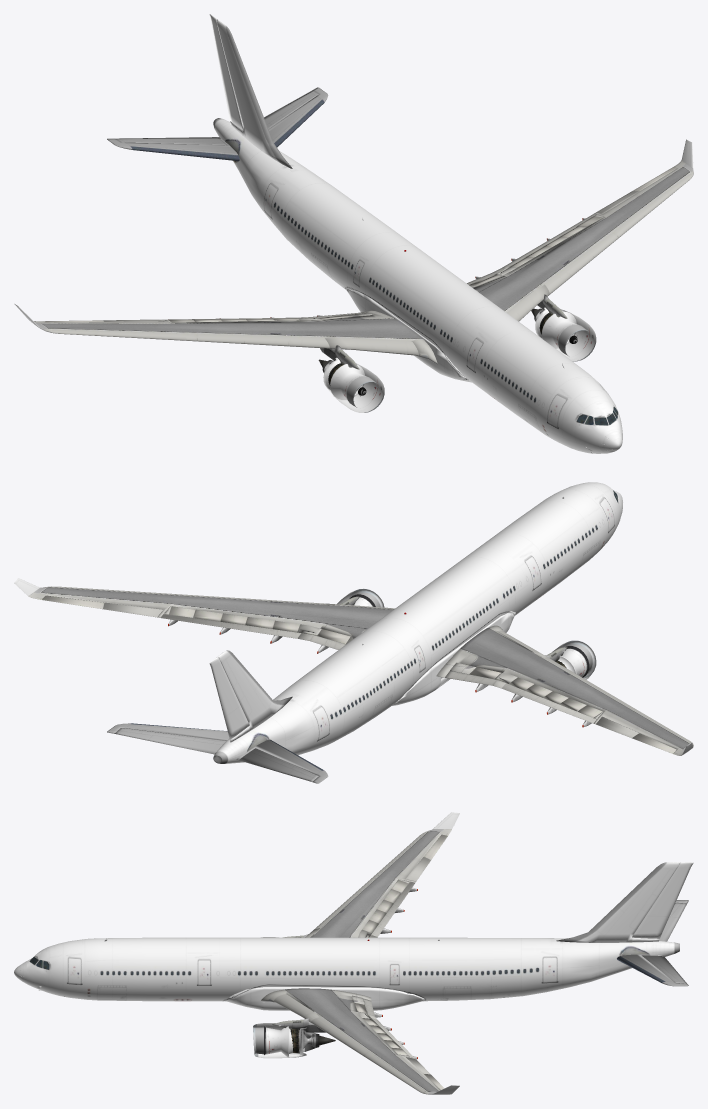
3 renders of one model, top to bottom at view 1: azimuth 30°, elevation 25°; view 2: azimuth 150°, elevation 25°; view 3: azimuth 270°, elevation 25°, orthographic. The views are drawn at different scales.
Parts seen in each view (by area): view 1: fuselage_mesh_002-mesh, cylinder_mesh-mesh, vstab_mesh-mesh, cylinder_mesh_003-mesh, hstab_mesh-mesh, wing_in1_mesh-mesh, ge_nacelle1_mesh-mesh, cylinder_mesh_001-mesh, ge_nacelle0_mesh-mesh, cylinder_mesh_002-mesh, slat_out1_mesh_001-mesh, bellyfairing_mesh-mesh (+6 smaller); view 2: fuselage_mesh_002-mesh, cylinder_mesh-mesh, cylinder_mesh_003-mesh, wing_in1_mesh-mesh, vstab_mesh-mesh, hstab_mesh-mesh, cylinder_mesh_001-mesh, cylinder_mesh_002-mesh, rudder_mesh-mesh, wing_in0_mesh-mesh, bellyfairing_mesh-mesh, elevator0_mesh-mesh (+4 smaller); view 3: fuselage_mesh_002-mesh, vstab_mesh-mesh, cylinder_mesh_003-mesh, bellyfairing_mesh-mesh, cylinder_mesh-mesh, rudder_mesh-mesh, wing_in0_mesh-mesh, cylinder_mesh_002-mesh, cylinder_mesh_001-mesh, ge_nacelle0_mesh-mesh, hstab_mesh-mesh, slat_out0_mesh-mesh (+1 smaller).
Boxes of the visible parts, x1,y1,x2,y2 form: fuselage_mesh_002-mesh: (213,118,622,453); cylinder_mesh-mesh: (503,213,618,301); vstab_mesh-mesh: (216,19,292,168); cylinder_mesh_003-mesh: (161,319,347,349); hstab_mesh-mesh: (107,87,328,161); wing_in1_mesh-mesh: (321,310,437,364); ge_nacelle1_mesh-mesh: (330,364,384,412); cylinder_mesh_001-mesh: (595,160,693,226); ge_nacelle0_mesh-mesh: (541,311,595,361); cylinder_mesh_002-mesh: (34,319,182,333); slat_out1_mesh_001-mesh: (183,333,329,348); bellyfairing_mesh-mesh: (346,289,471,382); fuselage_mesh_002-mesh: (213,482,622,763); cylinder_mesh-mesh: (159,595,346,628); cylinder_mesh_003-mesh: (503,651,618,723); wing_in1_mesh-mesh: (436,625,533,677); vstab_mesh-mesh: (217,650,292,742); hstab_mesh-mesh: (107,723,327,783); cylinder_mesh_001-mesh: (28,586,182,617); cylinder_mesh_002-mesh: (595,701,693,755); rudder_mesh-mesh: (209,657,249,739); wing_in0_mesh-mesh: (320,605,393,637); bellyfairing_mesh-mesh: (392,611,515,705); elevator0_mesh-mesh: (114,728,225,754); fuselage_mesh_002-mesh: (27,937,679,1001); vstab_mesh-mesh: (556,862,680,942); cylinder_mesh_003-mesh: (307,878,415,937); bellyfairing_mesh-mesh: (223,987,424,1010); cylinder_mesh-mesh: (304,1009,414,1058); rudder_mesh-mesh: (632,862,693,938); wing_in0_mesh-mesh: (260,988,371,1011); cylinder_mesh_002-mesh: (375,829,451,882); cylinder_mesh_001-mesh: (375,1054,451,1094); ge_nacelle0_mesh-mesh: (256,1023,288,1058); hstab_mesh-mesh: (617,900,688,986); slat_out0_mesh-mesh: (311,1017,374,1058).
Bounding box in the file's own units: 59.91 × 15.52 × 63.05.
Materials: 17 (13 with a texture image).
